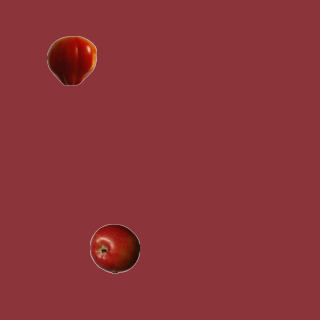Apple Braeburn: (89, 223, 139, 273)
Tomato 1: (46, 35, 96, 85)
